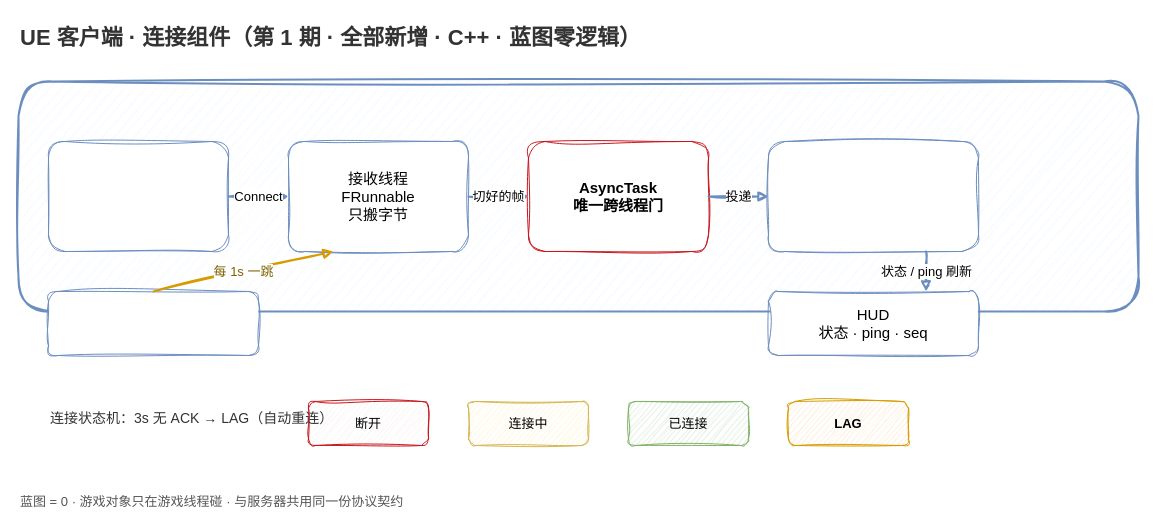
Some shapes in this 1156 by 530 pixel diagram are drawn without their labels. The box of each missing label's shape, as (x1, y1, x2, y2) in pixels:
GameInstance 管连接生死 （切关卡不死）: (48, 140, 228, 252)
帧处理器（游戏线程） WELCOME→Connected ACK 按 seq 匹配→ping: (768, 140, 978, 252)
心跳计时器 每 1s：seq++ · 组帧发送: (48, 290, 258, 356)
